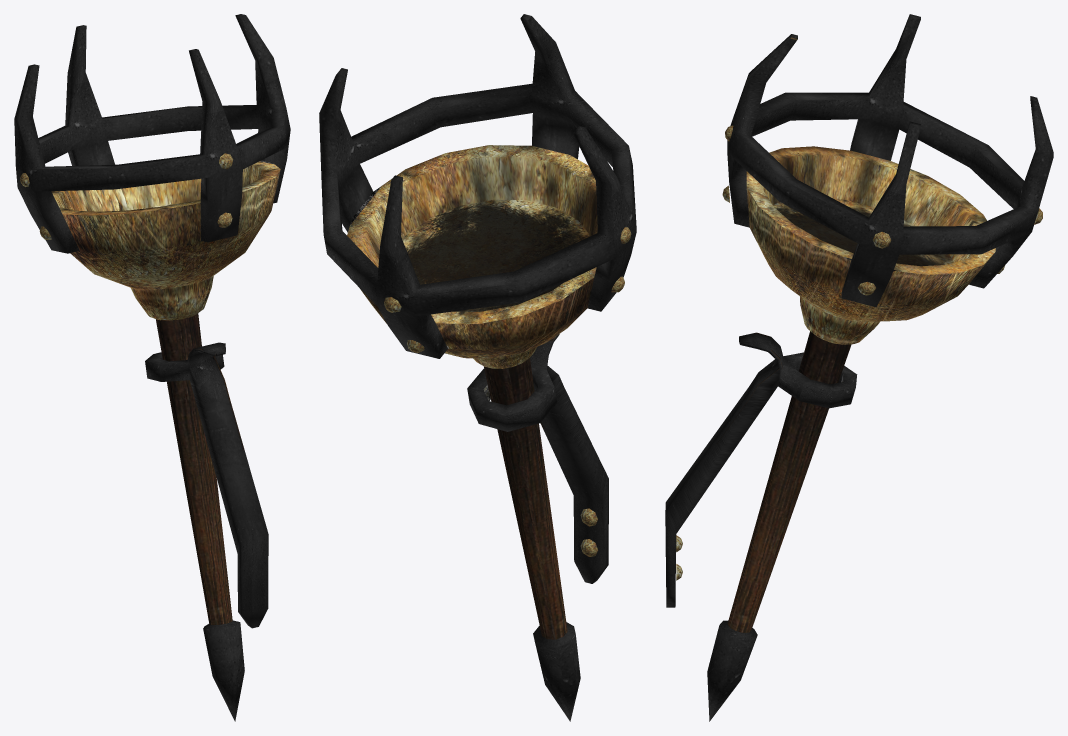
The model's file is TorchSconced.fbx.
3 renders of one model, left to right at view 1: azimuth 30°, elevation 25°; view 2: azimuth 150°, elevation 25°; view 3: azimuth 270°, elevation 25°, orthographic. The views are drawn at different scales.
Parts seen in each view (by area): view 1: TorchSconced:Mesh; view 2: TorchSconced:Mesh; view 3: TorchSconced:Mesh.
Part boxes in pixels (x1,y1,x2,y2): TorchSconced:Mesh: (14,14,290,721); TorchSconced:Mesh: (319,14,636,721); TorchSconced:Mesh: (665,14,1053,721).
Size of the model in its own units: 0.3213 by 0.747 by 0.3834.
